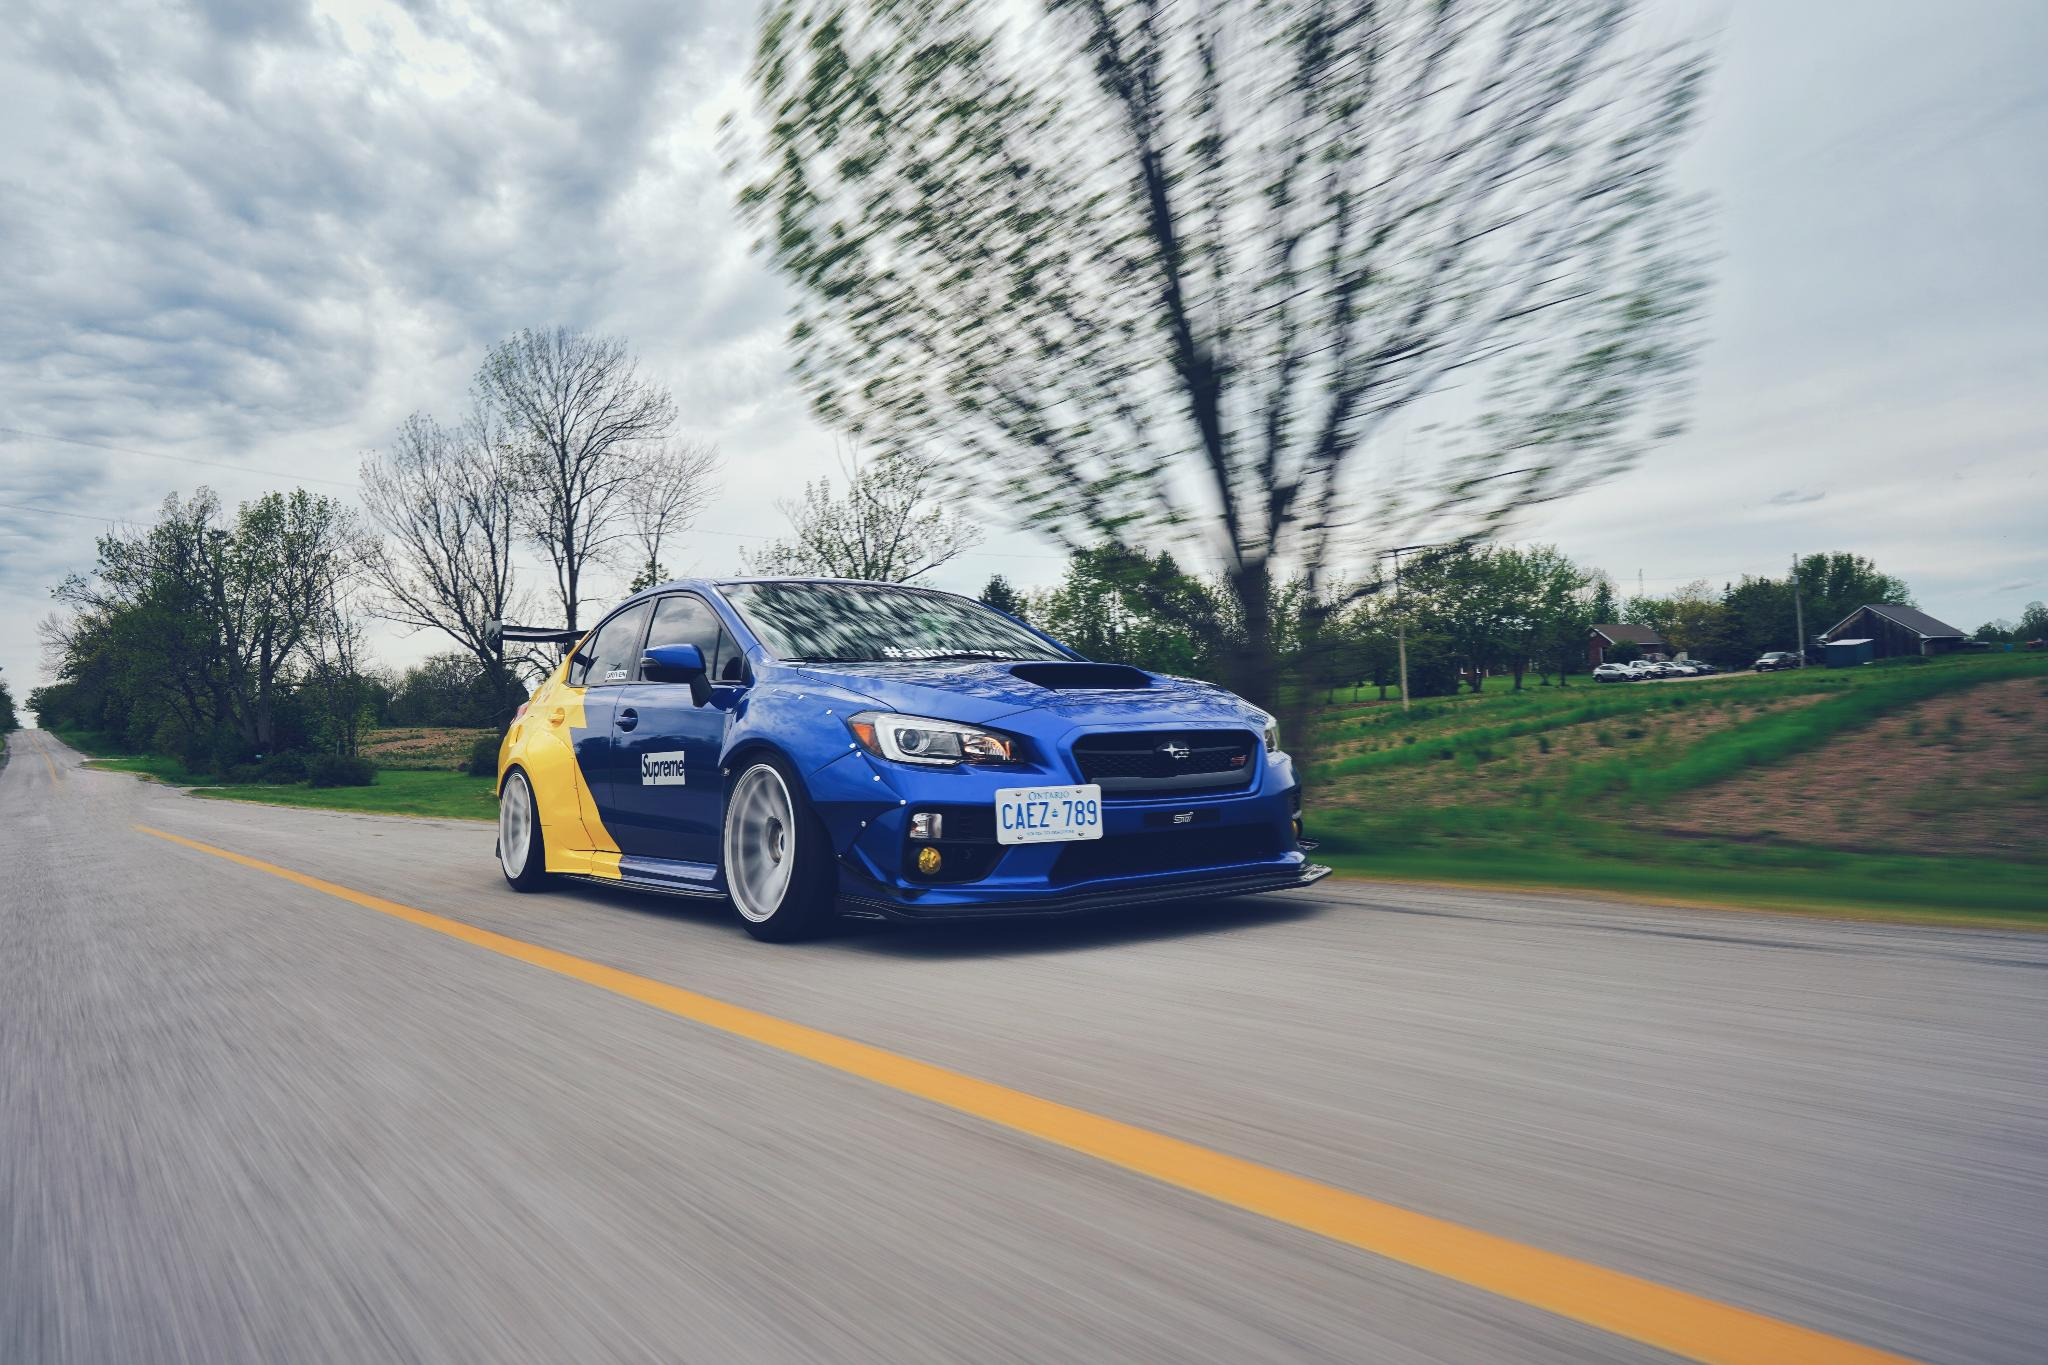subaru: (1140, 725, 1203, 777)
